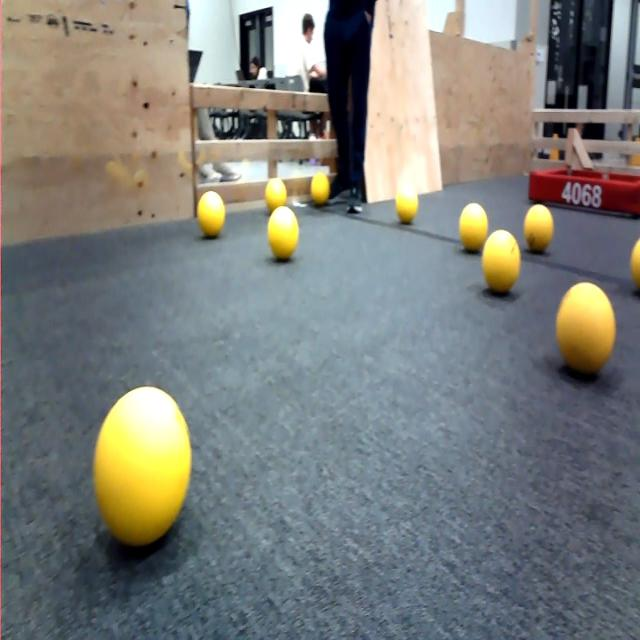fuel: (94, 386, 191, 546), (556, 282, 616, 375), (482, 230, 520, 294), (268, 206, 298, 261), (524, 204, 553, 253), (459, 202, 487, 252), (197, 192, 225, 238), (396, 184, 418, 223), (265, 177, 287, 214), (311, 173, 329, 205), (630, 239, 639, 290)
